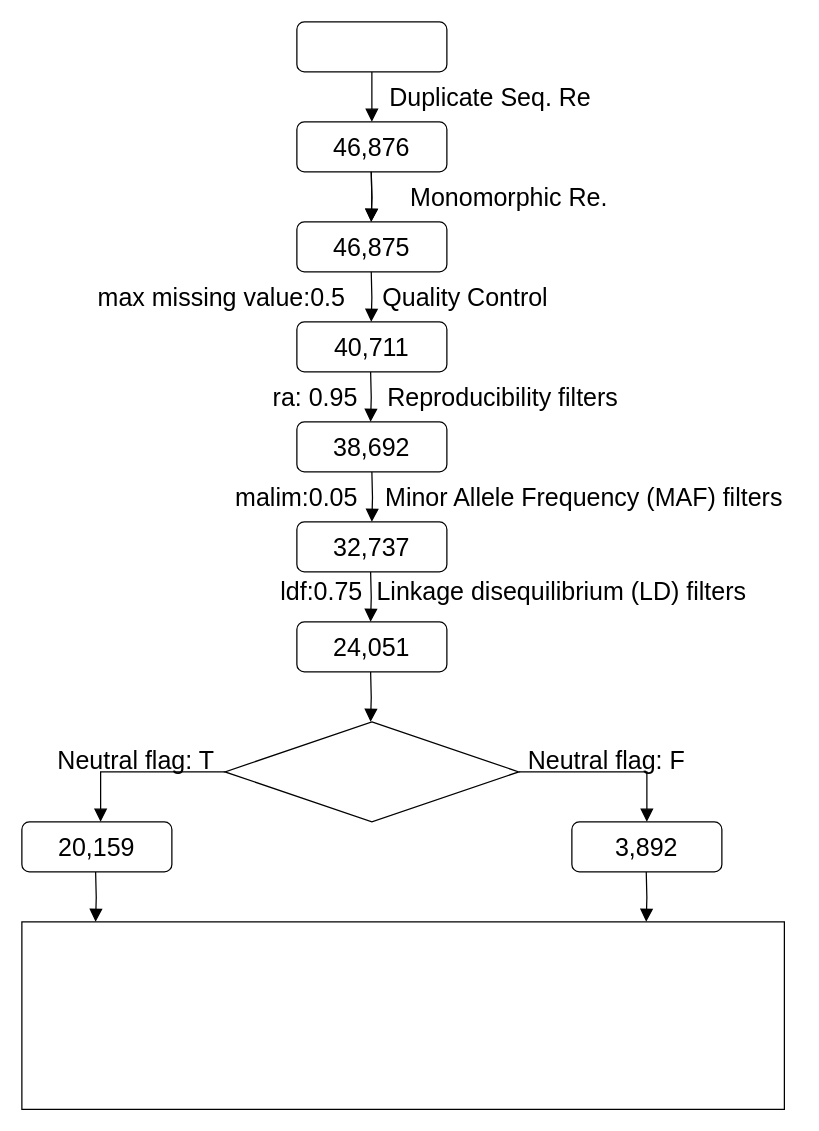
Image size: 819x1131. Some labels were removed from this diagram. The shapes that lost their labels are listed below. From the top down, each one's centre as x and y in pixels, then its label:
At (371,46): "Total: 69,799".
At (371,771): "Neutrality filters".
At (402,1015): "Downstream Analysis".
